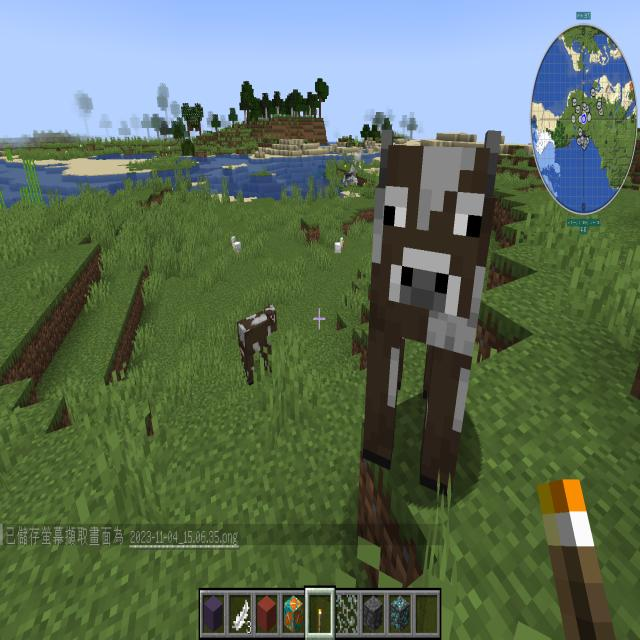chicken: (226, 229, 252, 266), (331, 234, 348, 263)
cow: (354, 101, 510, 512), (229, 285, 288, 390)
